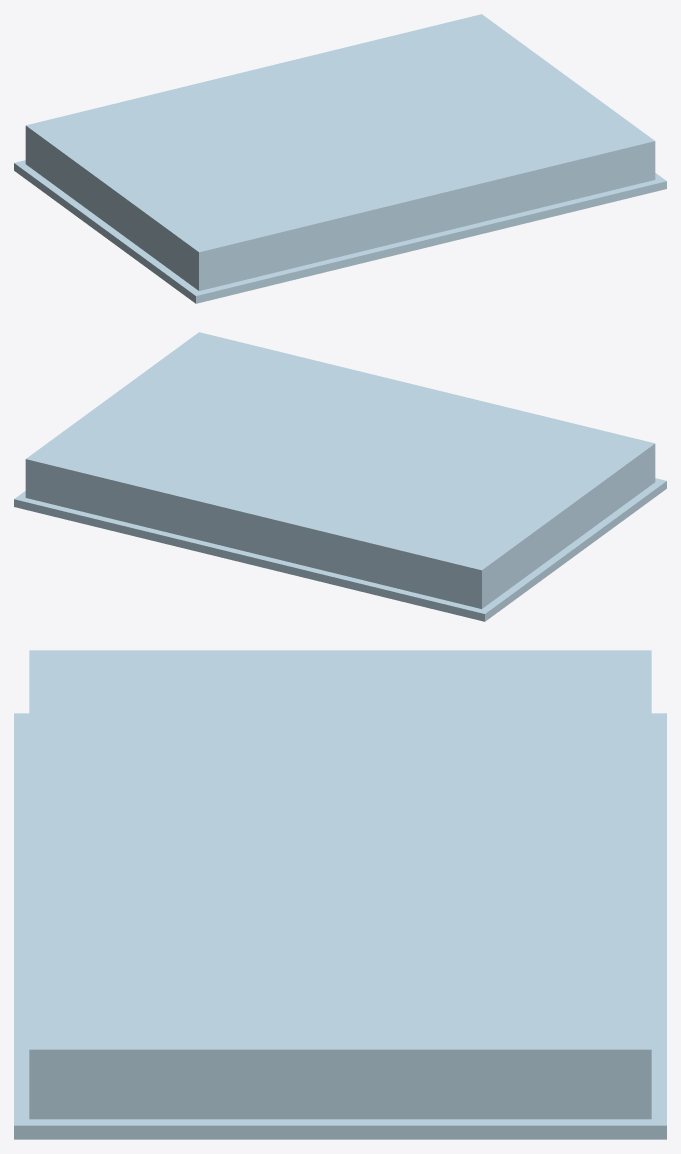
3 renders of one model, top to bottom at view 1: azimuth 30°, elevation 25°; view 2: azimuth 150°, elevation 25°; view 3: azimuth 270°, elevation 25°, orthographic. The views are drawn at different scales.
Visible parts, largest first — view 1: Part 1; view 2: Part 1; view 3: Part 1.
Boxes of the visible parts, bbox=[...] form: Part 1: bbox=[14, 14, 666, 303]; Part 1: bbox=[14, 332, 666, 621]; Part 1: bbox=[14, 650, 666, 1139].
Bounding box in the file's own units: 0.127 × 0.012 × 0.085.
